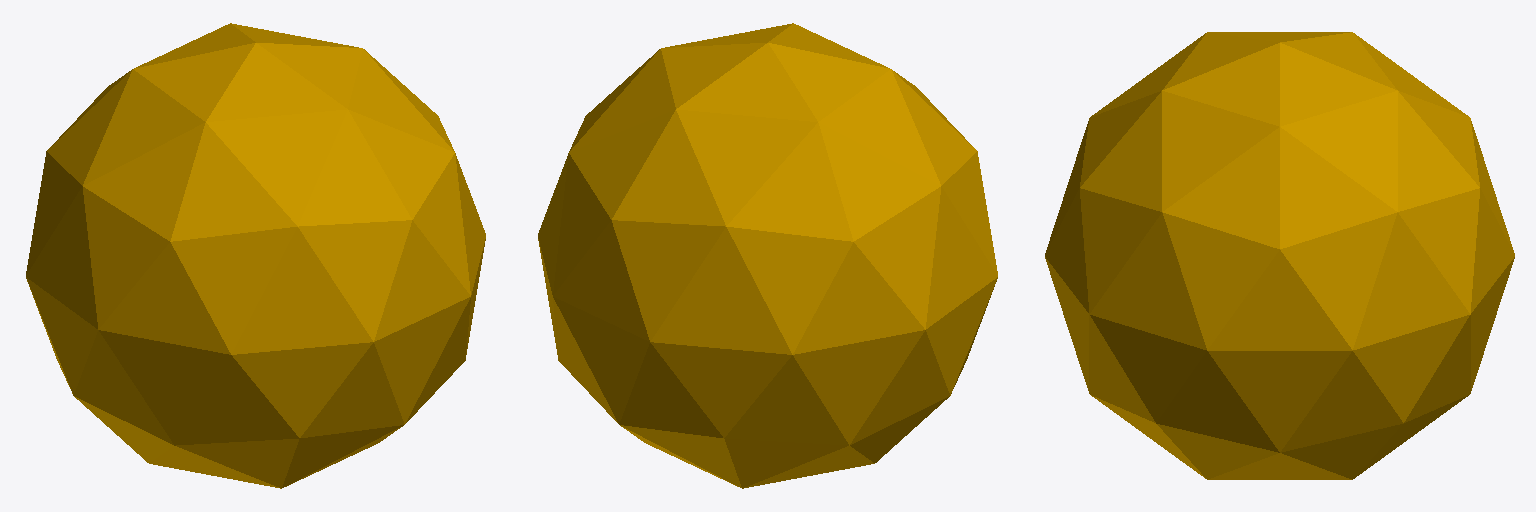
Rendered from light.obj.
3 views of the same model, side by side, from view 1: azimuth 30°, elevation 25°; view 2: azimuth 150°, elevation 25°; view 3: azimuth 270°, elevation 25° (orthographic).
Parts seen in each view (by area): view 1: Icosphere; view 2: Icosphere; view 3: Icosphere.
Boxes of the visible parts, <box> form: Icosphere: <box>26,23,485,488</box>; Icosphere: <box>538,23,997,488</box>; Icosphere: <box>1045,32,1514,479</box>.
Size of the model in its own units: 1.9 by 2 by 2.